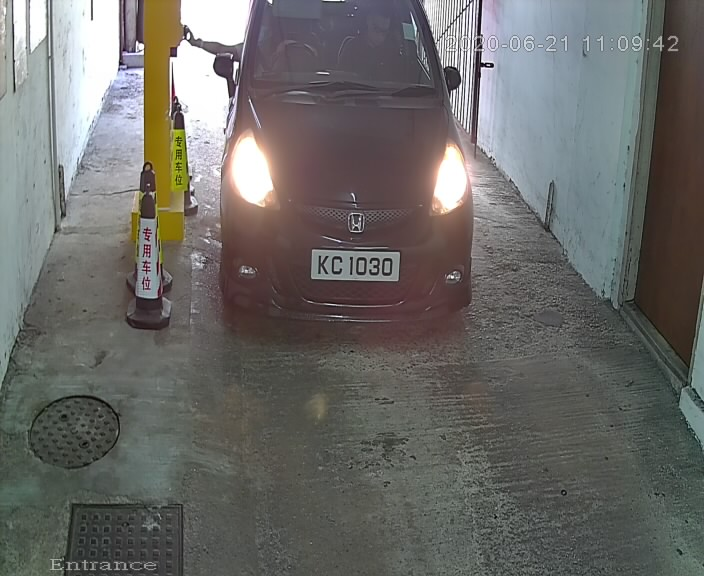privatecar: (198, 1, 498, 342)
